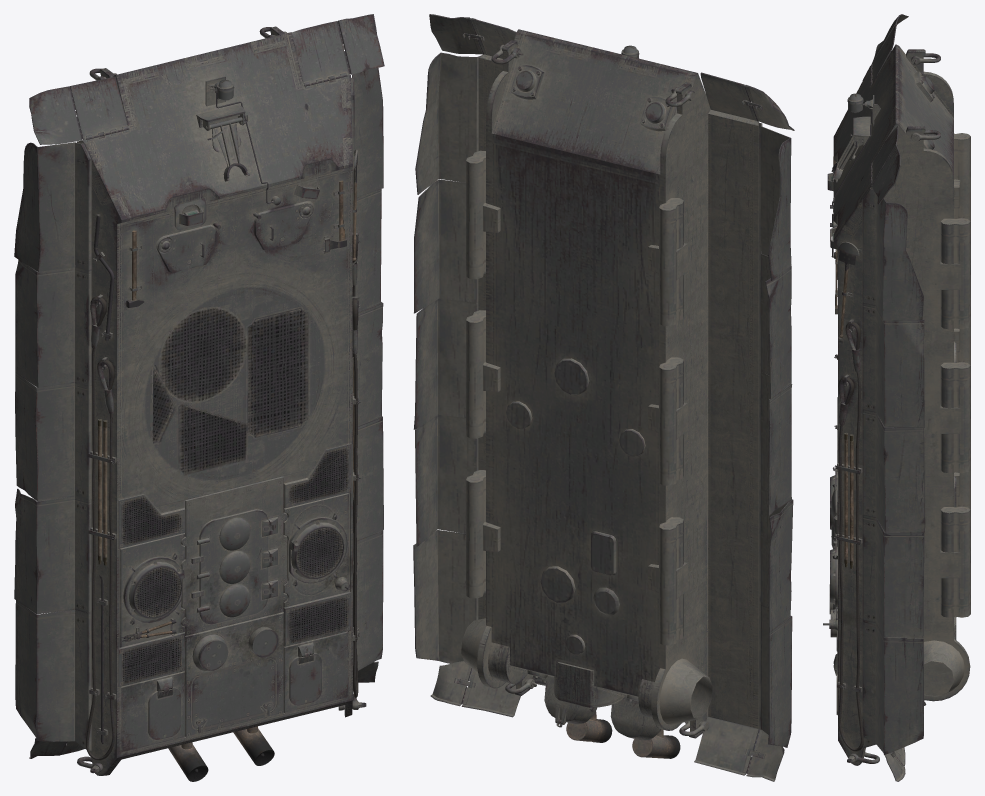
File: Hull.glb
The picture shows the model from 3 angles, left to right: view 1: azimuth 30°, elevation 25°; view 2: azimuth 150°, elevation 25°; view 3: azimuth 270°, elevation 25°; orthographic projection. The views are drawn at different scales.
Parts seen in each view (by area): view 1: set_0_group_0; view 2: set_0_group_0; view 3: set_0_group_0.
Part boxes in pixels (x1,y1,x2,y2): set_0_group_0: [14, 14, 384, 781]; set_0_group_0: [413, 14, 794, 781]; set_0_group_0: [823, 14, 970, 781].
Size of the model in its own units: 3.92 by 7.48 by 1.54.
1 material, 1 textured.
